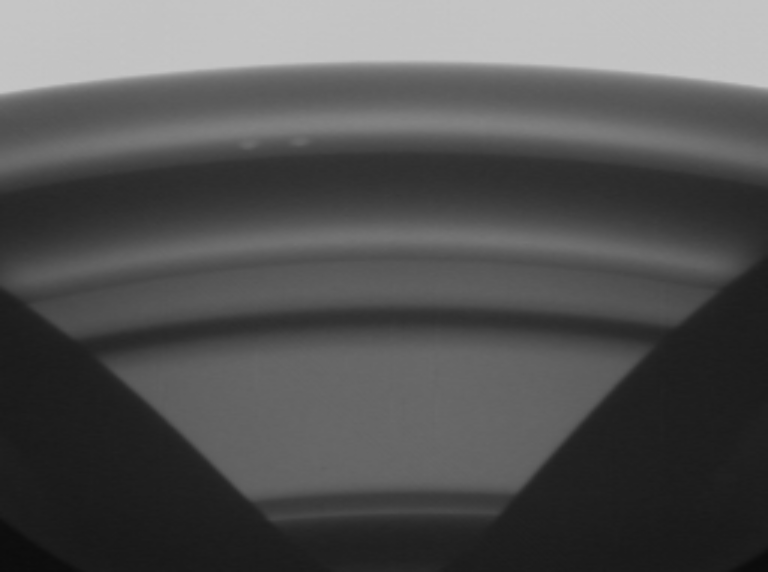defect: (285, 132, 327, 156)
